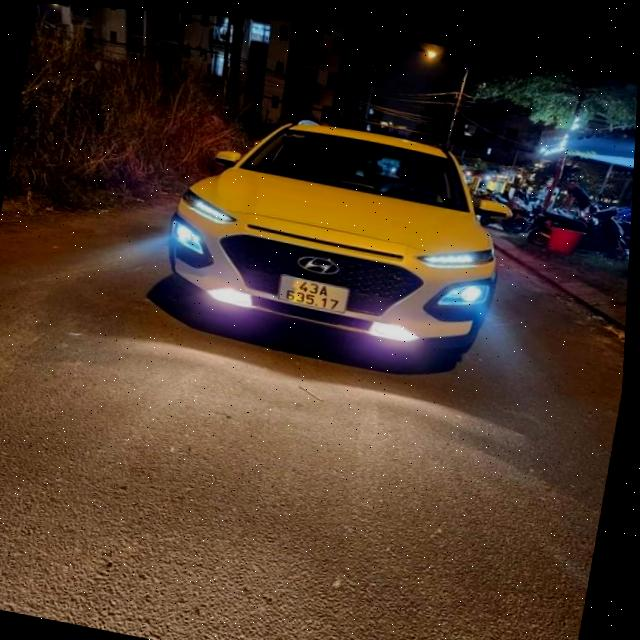car: (147, 88, 526, 398)
plate: (271, 269, 355, 320)
